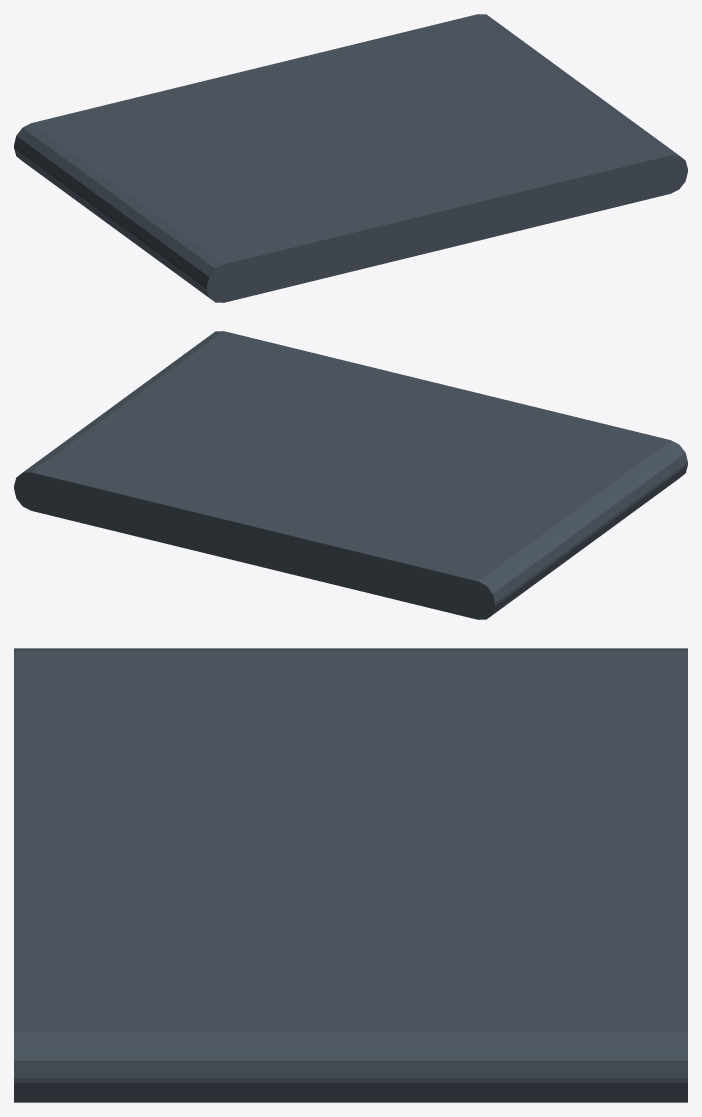
Rendered from Spring_PadOff.gltf.
3 views of the same model, one above another, from view 1: azimuth 30°, elevation 25°; view 2: azimuth 150°, elevation 25°; view 3: azimuth 270°, elevation 25° (orthographic). The views are drawn at different scales.
Visible parts, largest first — view 1: Spring_PadOff_baked; view 2: Spring_PadOff_baked; view 3: Spring_PadOff_baked.
Boxes of the visible parts, bbox=[...] form: Spring_PadOff_baked: bbox=[14, 14, 687, 302]; Spring_PadOff_baked: bbox=[14, 331, 687, 619]; Spring_PadOff_baked: bbox=[14, 648, 687, 1102].
Bounding box in the file's own units: 0.72 × 0.055 × 0.5.
